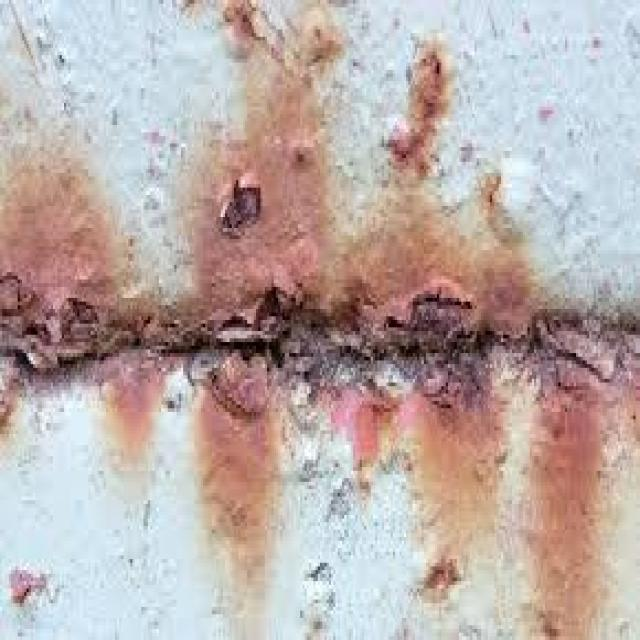Crevice Corrosion: (0, 263, 638, 427), (224, 2, 350, 74), (382, 42, 448, 169), (214, 167, 268, 242), (417, 552, 470, 595), (300, 553, 339, 608), (10, 563, 47, 616), (482, 172, 508, 209), (292, 143, 311, 172)
